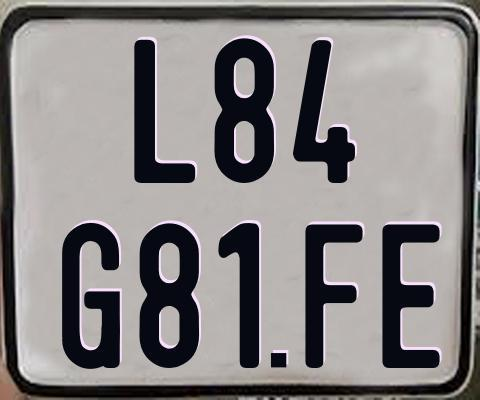1: (218, 221, 261, 369)
4: (292, 37, 360, 183)
8: (137, 223, 200, 368), (212, 38, 273, 187)
E: (382, 222, 445, 370)
F: (304, 221, 362, 369)
G: (61, 223, 122, 374)
L: (134, 40, 197, 185)
